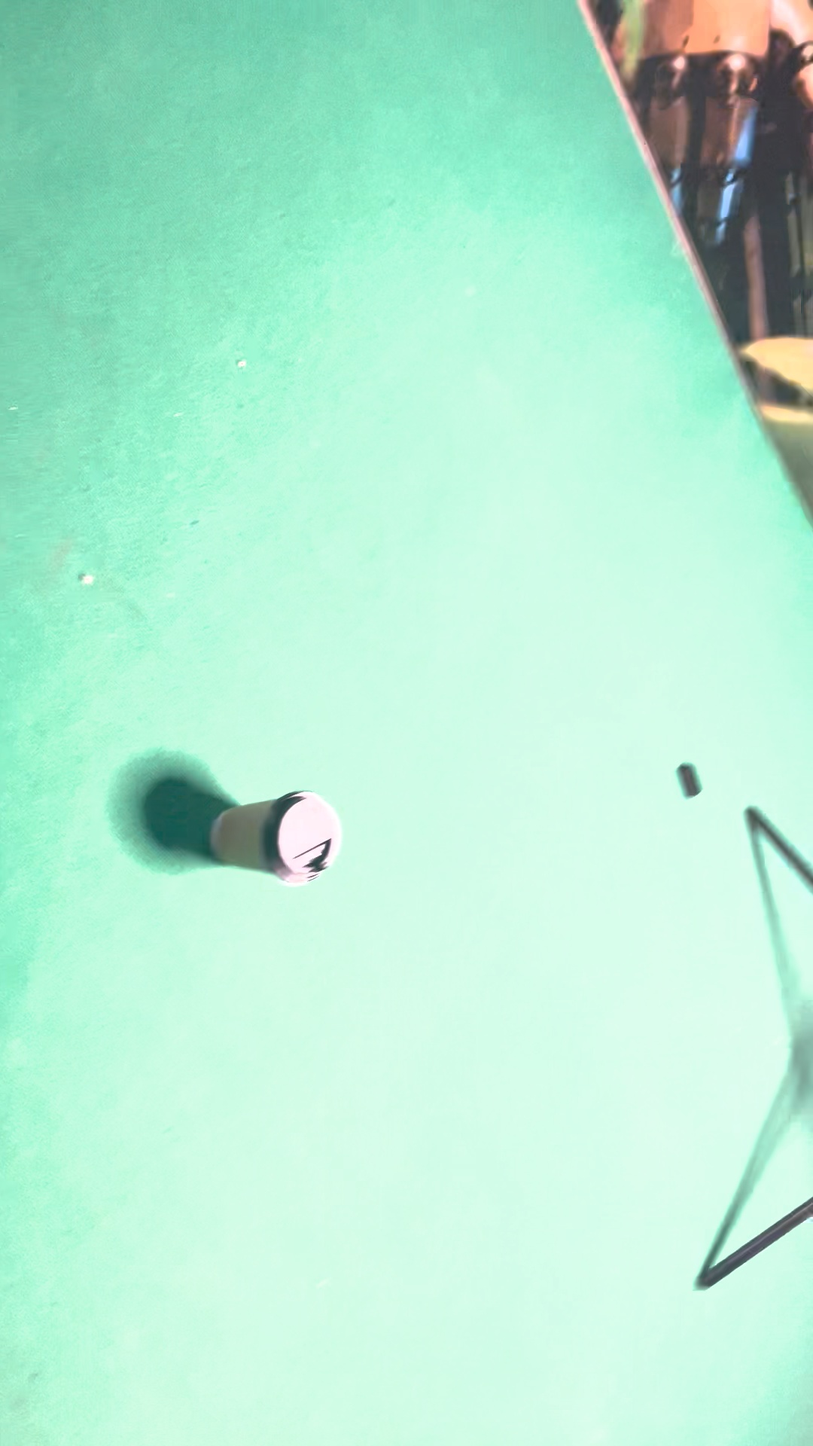cup: (401, 716, 477, 1075)
